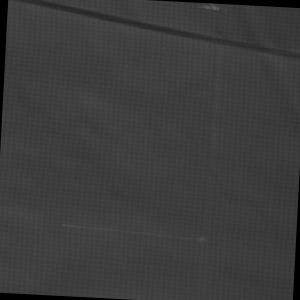Wrinkle: (5, 1, 300, 72)
